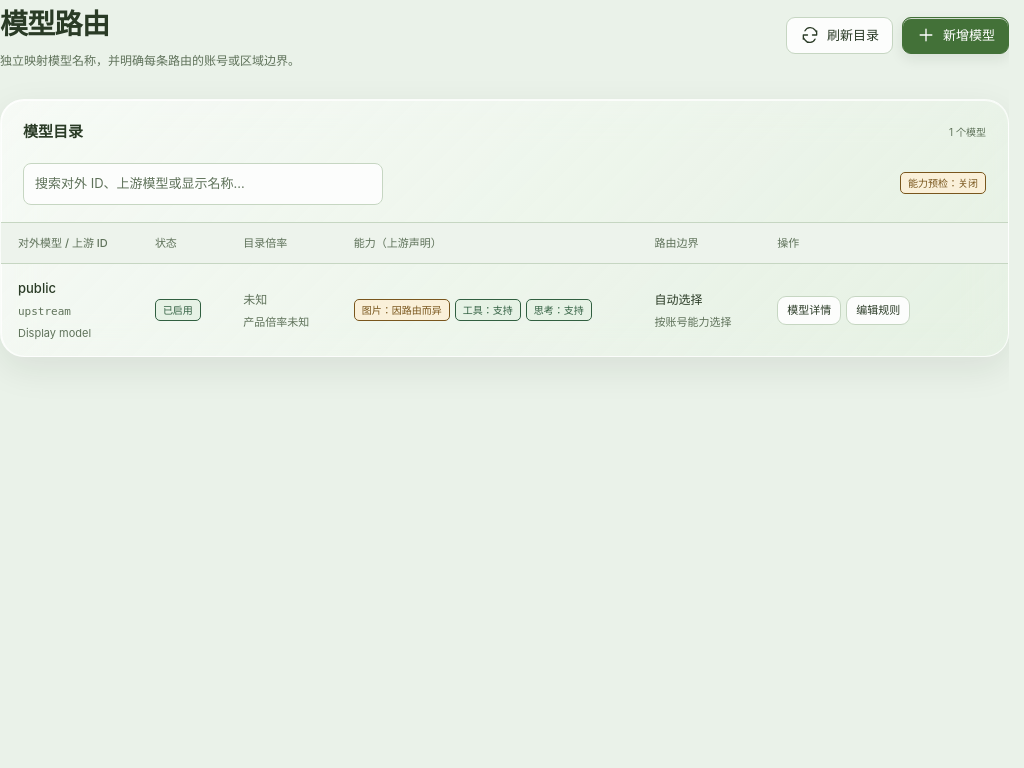
model declarations › exposes details from the model table and supports display-name search
Expected: the text "能力预检：关闭" is shown, x1=900 y1=172 x2=986 y2=194
Step 1. Type "Display" into the field named "搜索模型" → (203, 183), box x1=23 y1=163 x2=383 y2=204
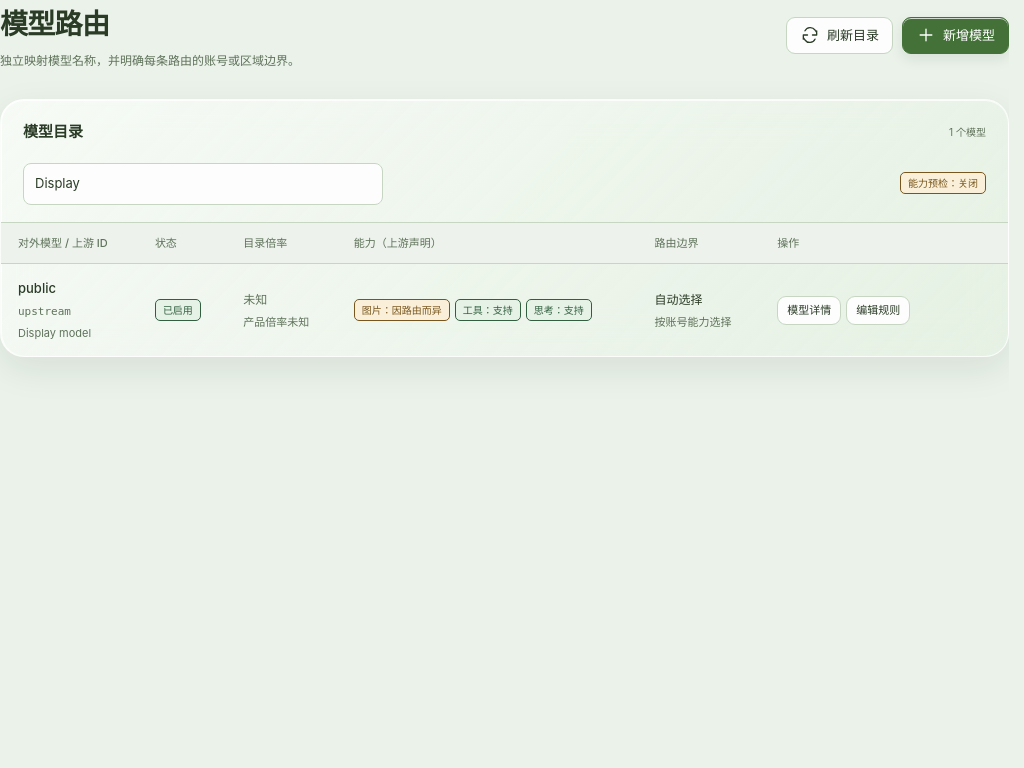
Step 2. Click the button "模型详情" → (809, 310), box x1=777 y1=296 x2=841 y2=325
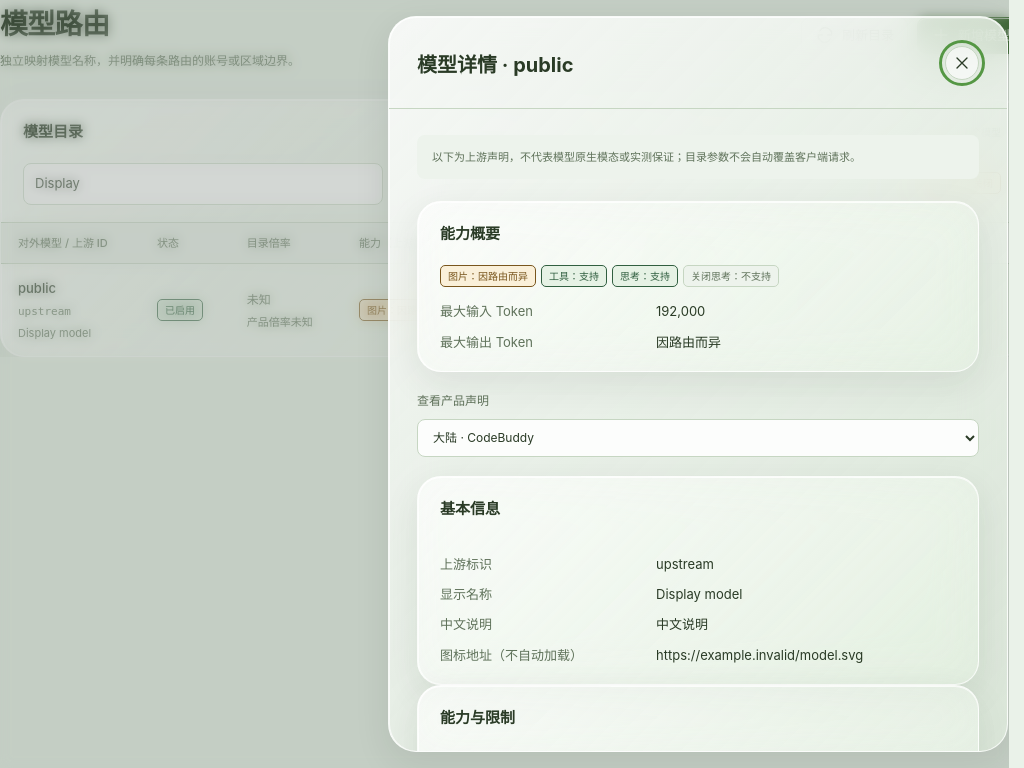
Expected: the dropdown labelled "查看产品声明" is shown, x1=417 y1=419 x2=979 y2=457
Expected: the heading "能力概要" is shown, x1=440 y1=222 x2=500 y2=247
